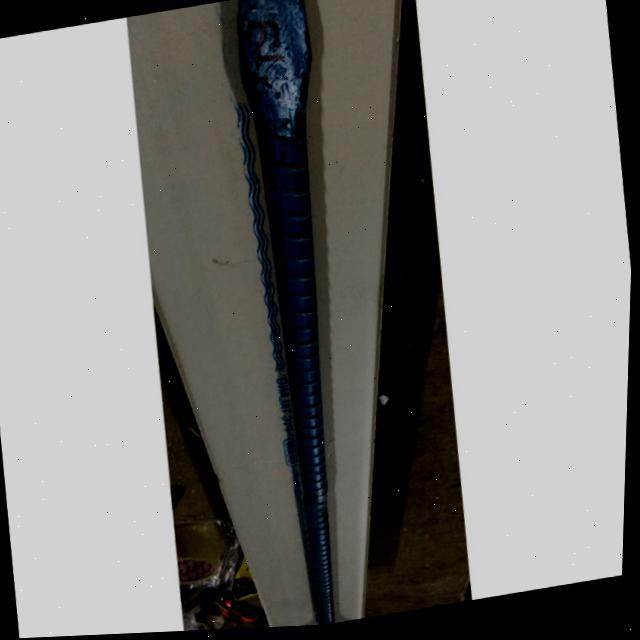crow bar: (214, 0, 388, 632)
